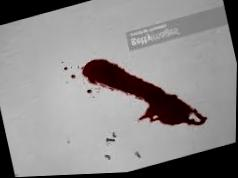Fire: (80, 60, 208, 129)
